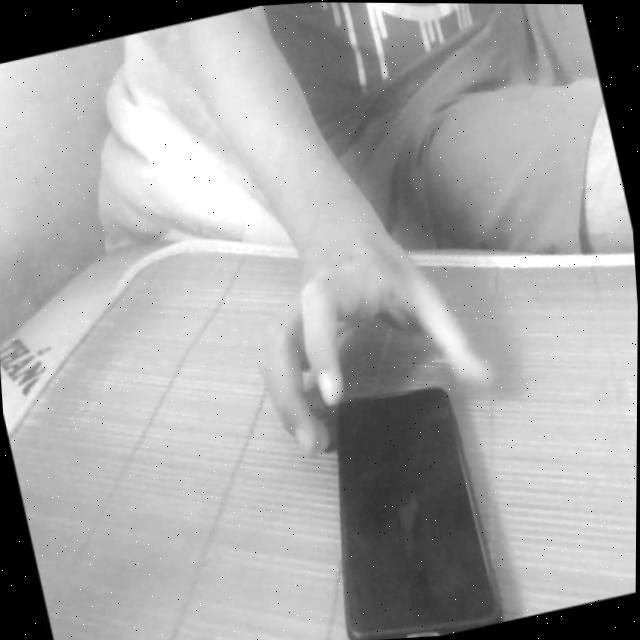phone: (274, 331, 531, 640)
